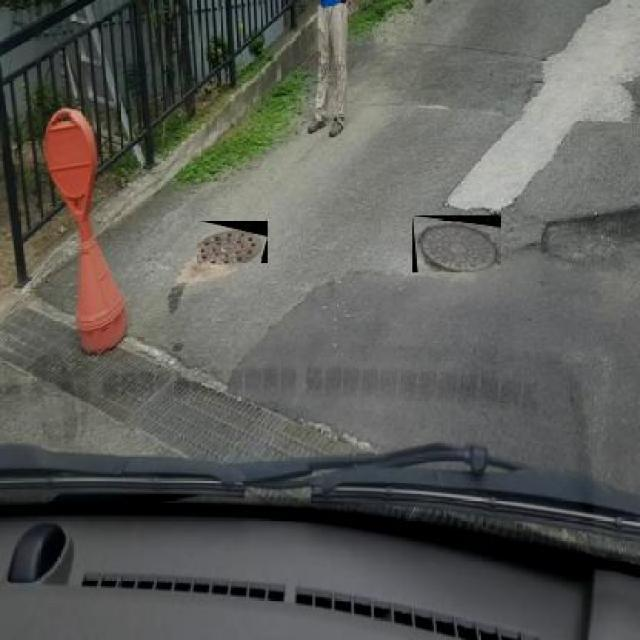Manhole: (412, 215, 500, 272), (197, 221, 268, 264)
Pothole: (531, 203, 640, 268)
